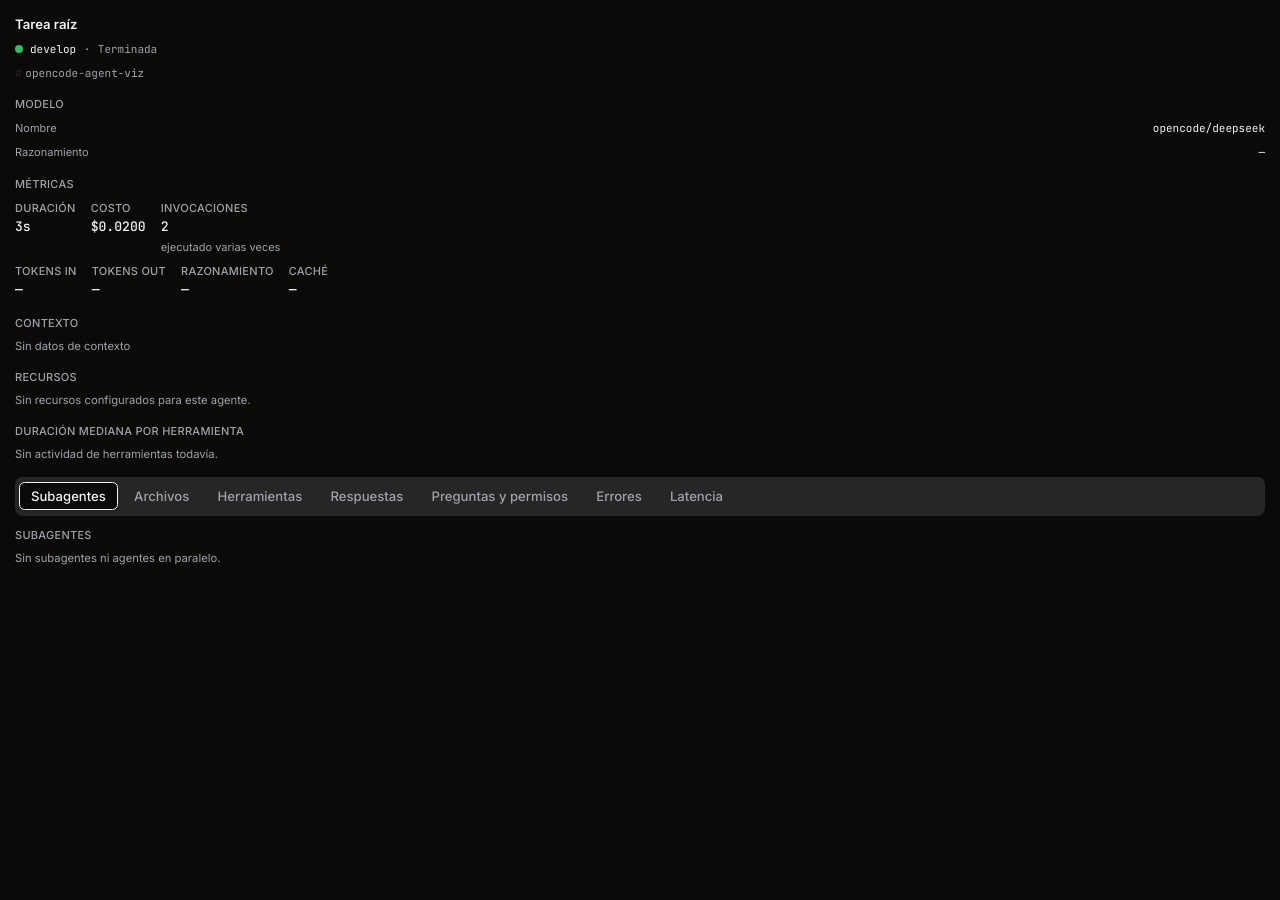
Test case: InspectorPanel › keeps the answers wiring (Respuestas, razonamiento, histórico) inside its tab (FR-014)
Click the tab "Respuestas".
click(367, 496)  # box [318, 482, 416, 510]
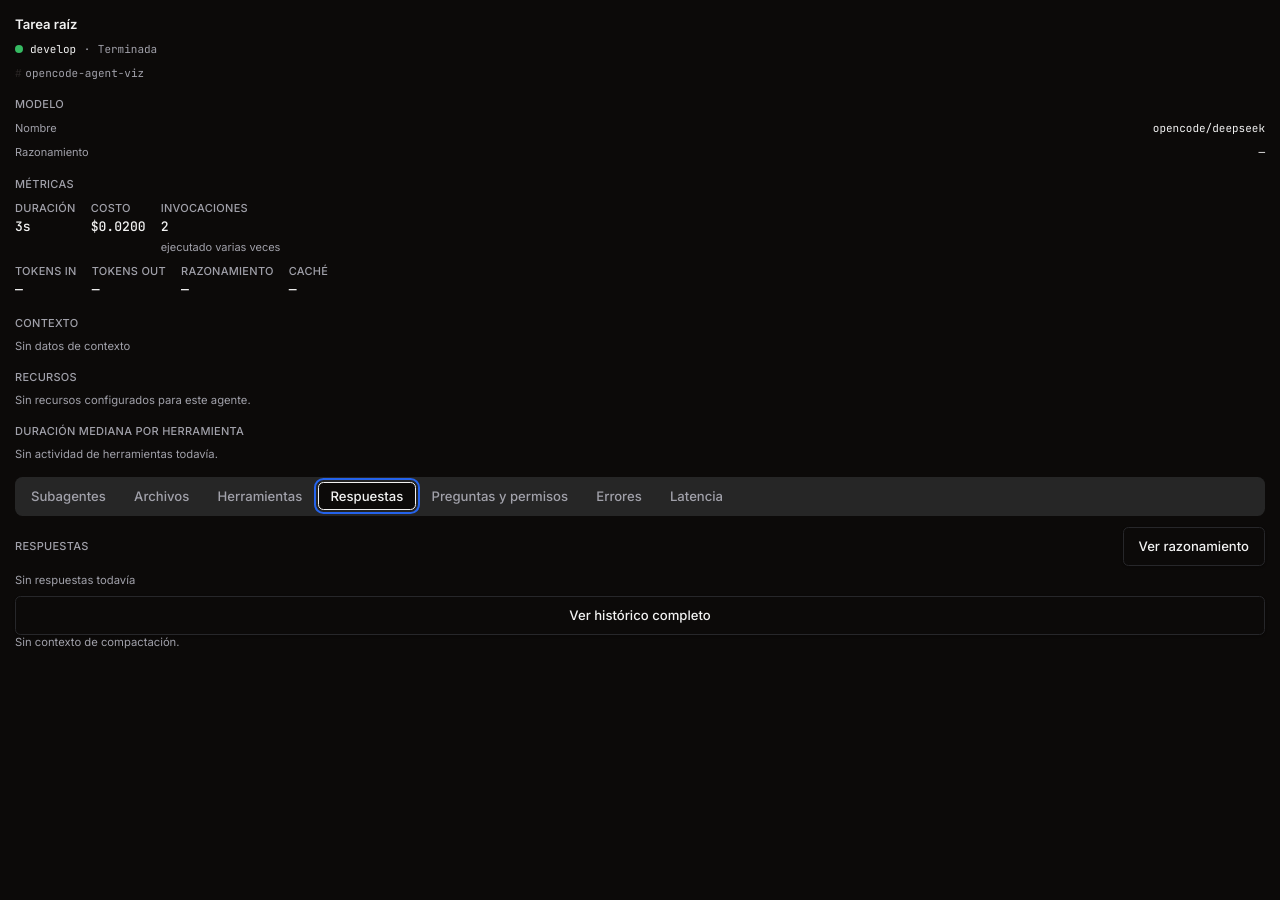
Result: the text "Respuestas" is shown at [15, 538, 89, 555]
Result: the button "Ver razonamiento" is shown at [1122, 527, 1265, 566]
Result: the button "Ver histórico completo" is shown at [15, 596, 1265, 635]
